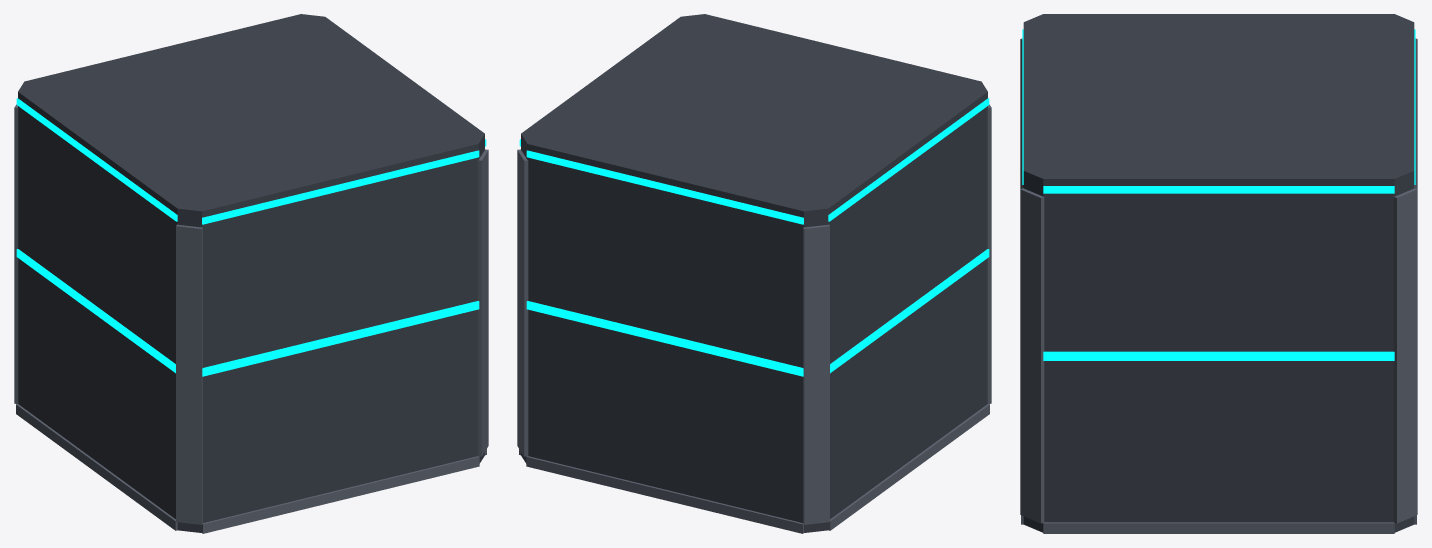
File: cover.glb
3 renders of one model, left to right at view 1: azimuth 30°, elevation 25°; view 2: azimuth 150°, elevation 25°; view 3: azimuth 270°, elevation 25°, orthographic. The views are drawn at different scales.
Visible parts, largest first — view 1: cover; view 2: cover; view 3: cover.
Boxes of the visible parts, x1=… form: cover: x1=14, y1=14, x2=488, y2=533; cover: x1=517, y1=14, x2=991, y2=533; cover: x1=1020, y1=14, x2=1417, y2=533.
Bounding box in the file's own units: 2.03 × 2 × 2.03.
